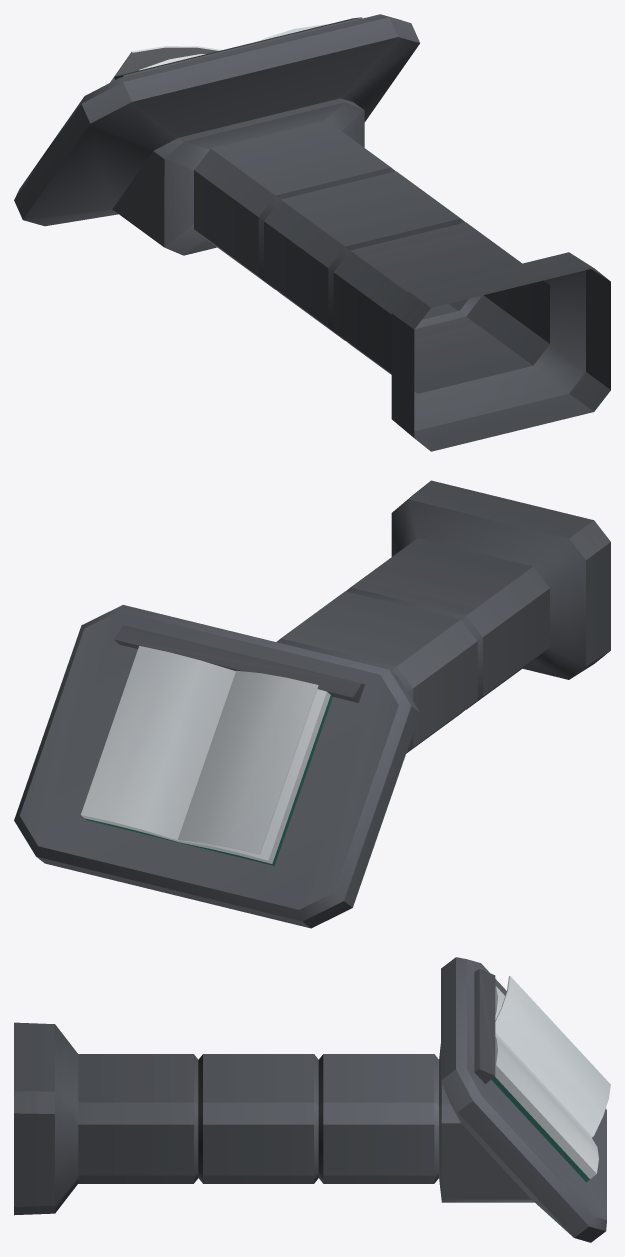
Rendered from Holy Book Stand 01.FBX.
The picture shows the model from 3 angles, top to bottom: view 1: azimuth 30°, elevation 25°; view 2: azimuth 150°, elevation 25°; view 3: azimuth 270°, elevation 25°; orthographic projection. The views are drawn at different scales.
Visible parts, largest first — view 1: Holy Book Stand 01; view 2: Holy Book Stand 01; view 3: Holy Book Stand 01.
Part boxes in pixels (x1,y1,x2,y2): Holy Book Stand 01: [14, 14, 610, 451]; Holy Book Stand 01: [14, 480, 610, 928]; Holy Book Stand 01: [14, 957, 610, 1242].
Bounding box in the file's own units: 71.01 × 41.43 × 129.
